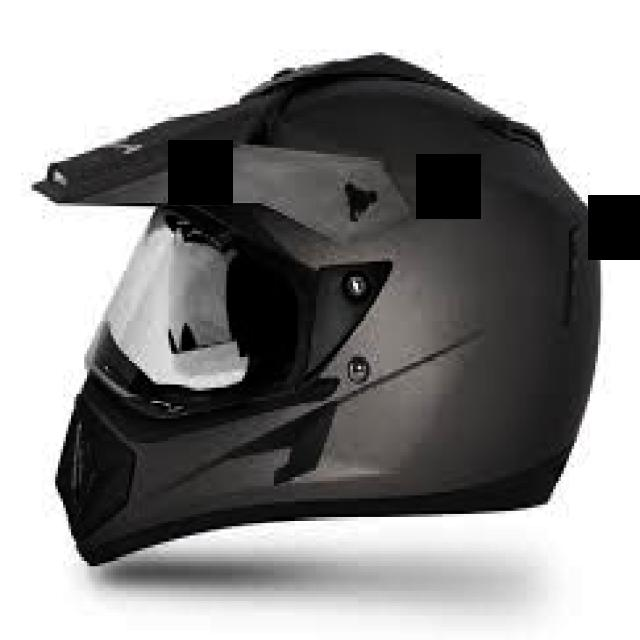Helmet: (35, 55, 599, 563)
